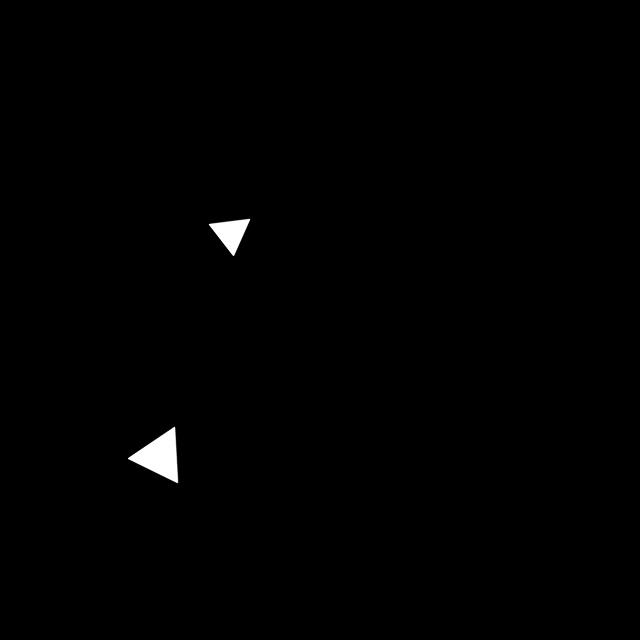Triangle: (120, 418, 193, 496), (199, 209, 260, 266)
